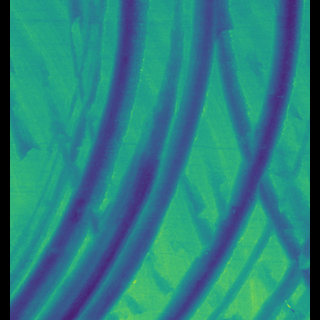Loch: (17, 0, 214, 320), (155, 0, 298, 318), (196, 113, 299, 320)
